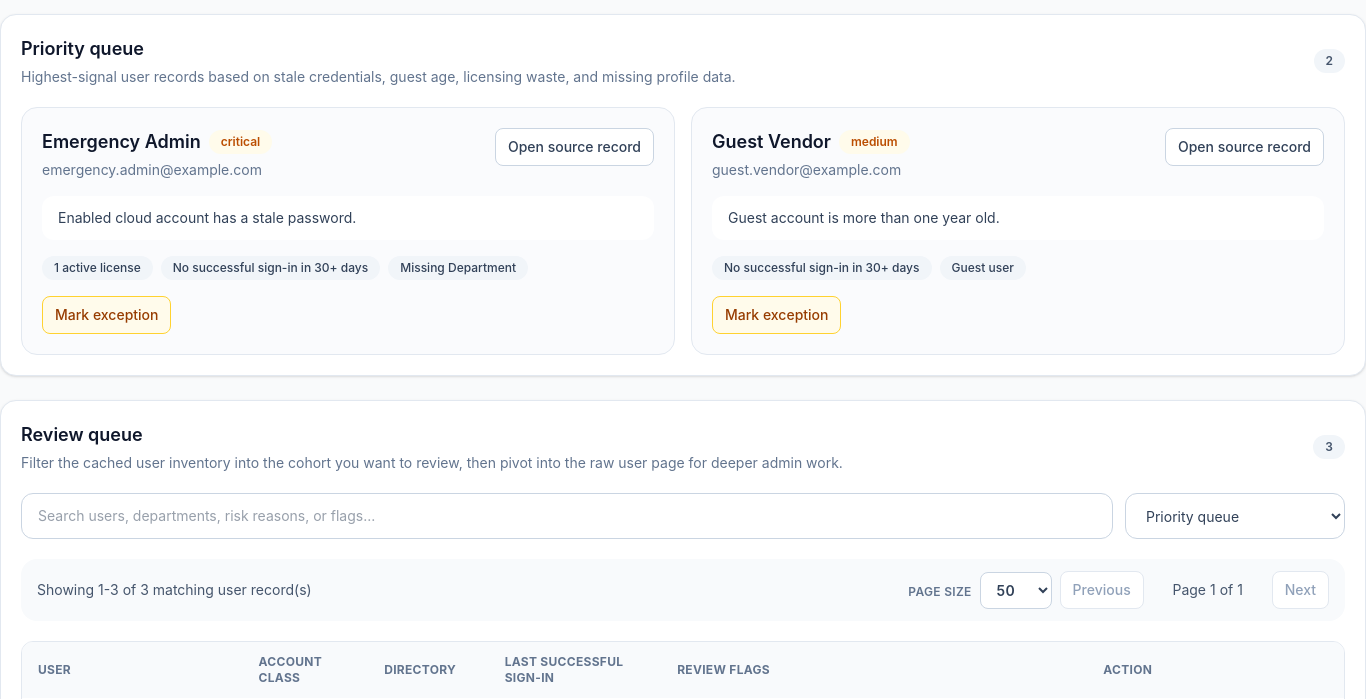
Scenario: AzureSecurityUserReviewPage › lets operators mark and restore approved finding exceptions
The width and height of the screenshot is (1366, 699).
(page scrolled)
Click the button "Mark exception" below "critical": (107, 315) x1=42 y1=296 x2=172 y2=334
(page scrolled)
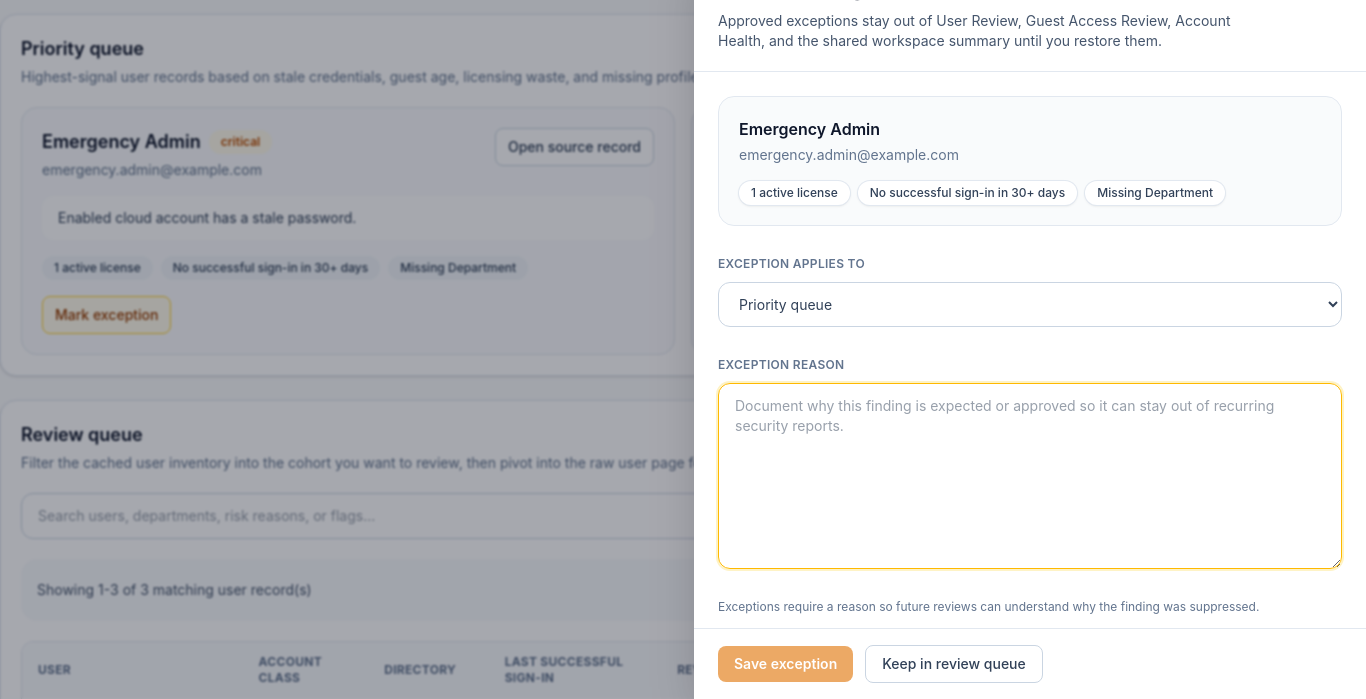
Replace the text in the text box with placeholder "Document why this finding is expected" with "Expected stale emergency account.": (1030, 476) x1=718 y1=383 x2=1342 y2=569
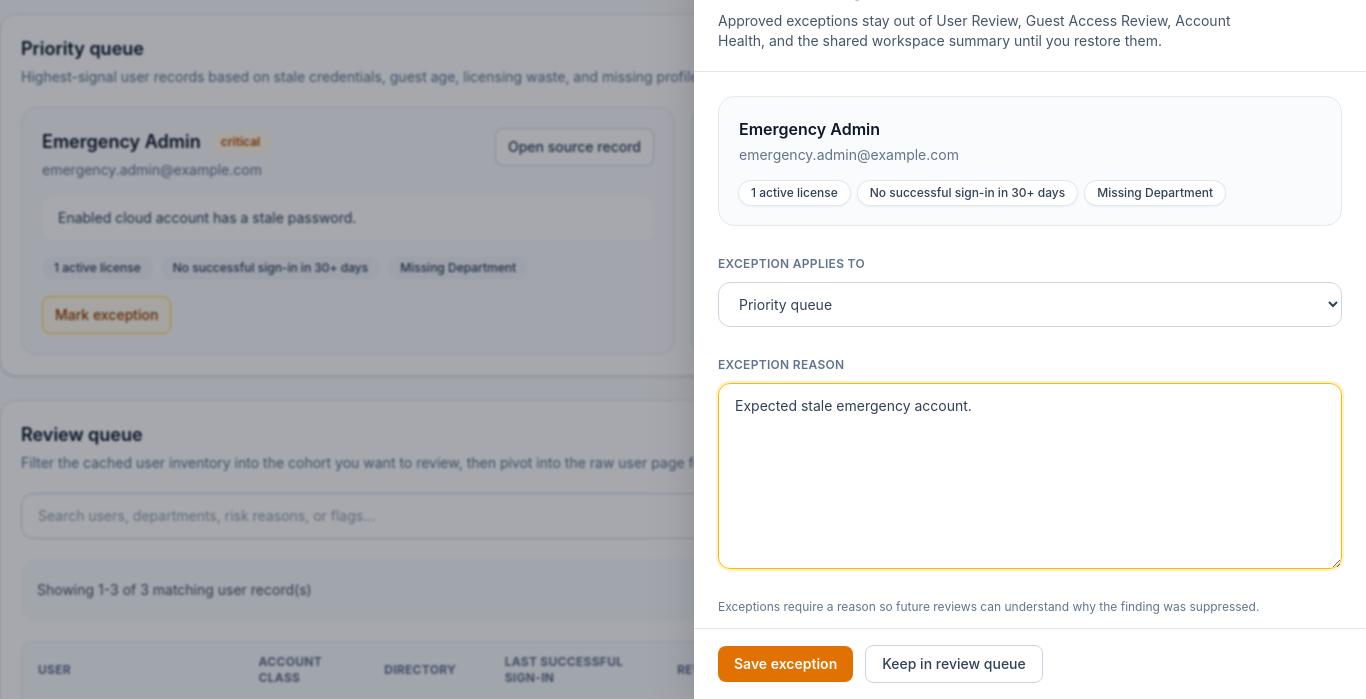
Click the button "Save exception": (786, 664) x1=718 y1=646 x2=853 y2=682
(page scrolled)
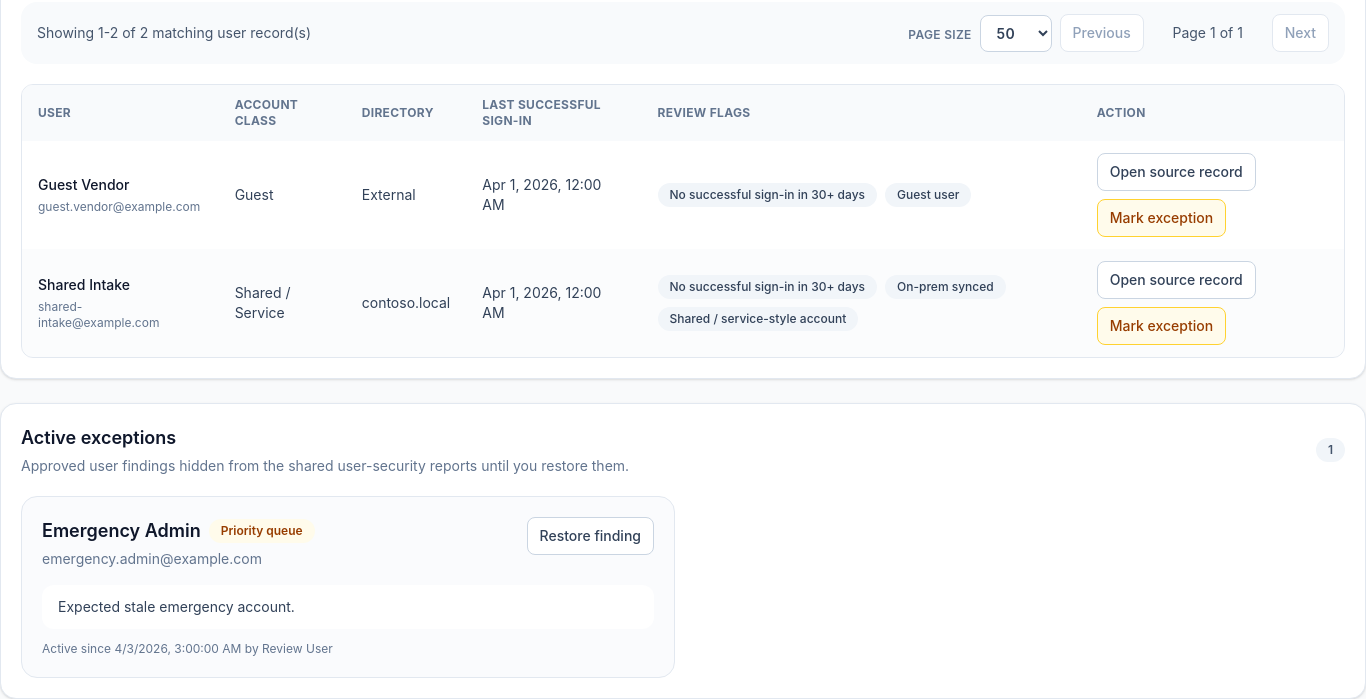
Expected: the element "Active exceptions" is shown, x1=0 y1=403 x2=1365 y2=698
Now the text "Priority queue" is shown, box x1=209 y1=519 x2=315 y2=543
Now the text "Expected stale emergency account." is shown, box x1=42 y1=585 x2=654 y2=629
Click the button "Restore finding": (590, 536) x1=527 y1=517 x2=654 y2=555
(page scrolled)
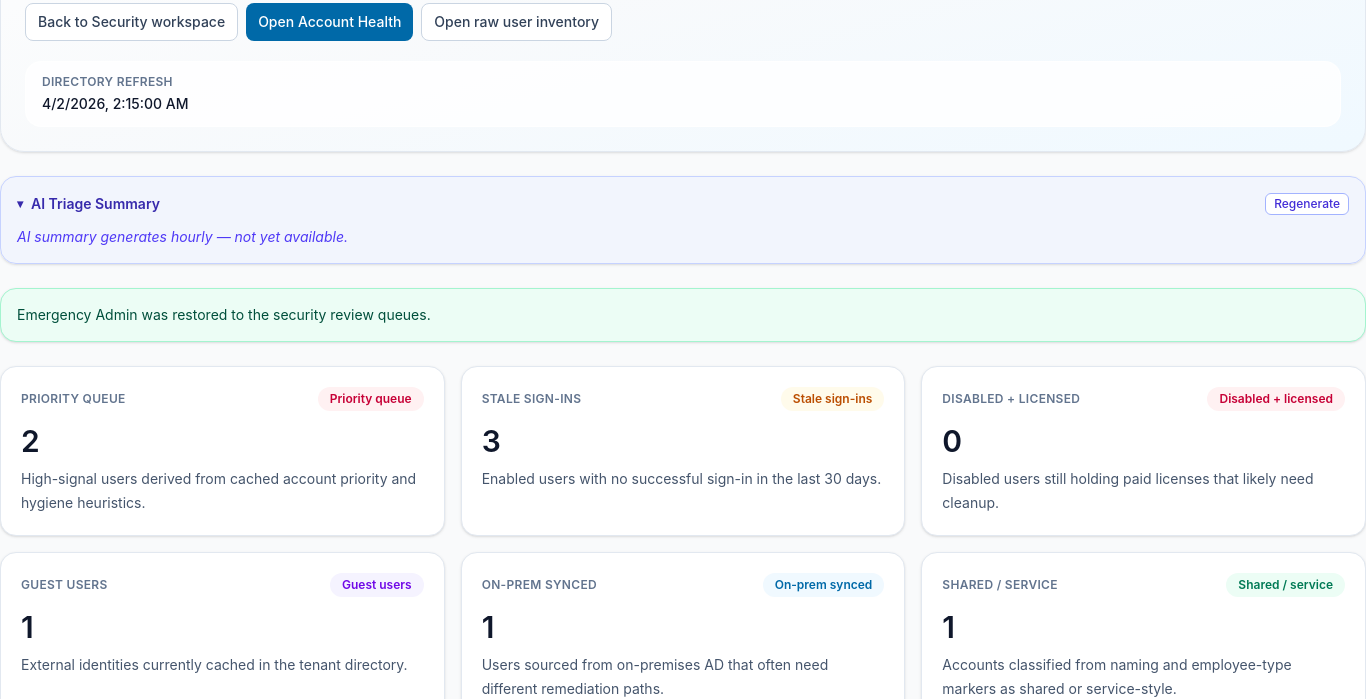
Now the text "Emergency Admin was restored to the security review queues." is shown, box x1=0 y1=288 x2=1365 y2=342
